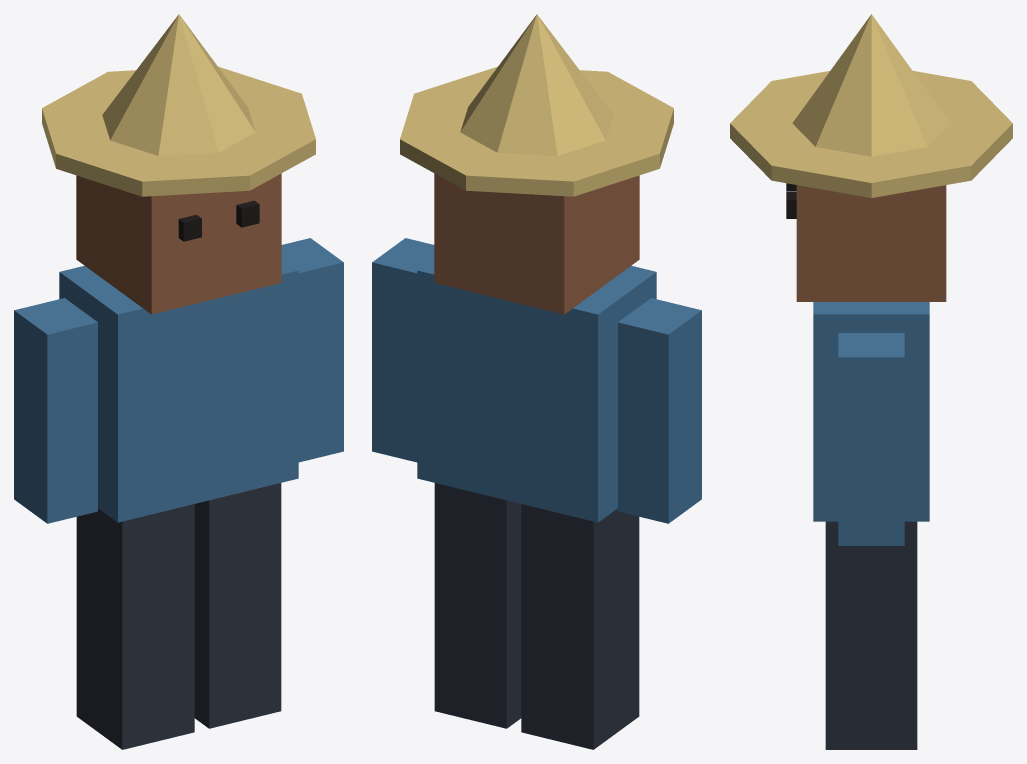
The model's file is ferrywoman.obj.
3 views of the same model, side by side, from view 1: azimuth 30°, elevation 25°; view 2: azimuth 150°, elevation 25°; view 3: azimuth 270°, elevation 25° (orthographic).
Parts seen in each view (by area): view 1: part_0, part_6, part_1, part_7, part_5, part_8, part_4, part_9, part_3, part_2; view 2: part_0, part_6, part_1, part_7, part_5, part_8, part_4, part_9; view 3: part_7, part_5, part_1, part_9, part_0, part_4.
Boxes of the visible parts, x1,y1,x2,y2 form: part_0: (59, 258, 298, 522); part_6: (76, 504, 194, 749); part_1: (76, 173, 281, 314); part_7: (194, 483, 281, 728); part_5: (42, 66, 315, 196); part_8: (14, 298, 97, 523); part_4: (102, 14, 255, 155); part_9: (281, 238, 343, 462); part_3: (236, 200, 259, 227); part_2: (178, 214, 201, 241); part_0: (417, 258, 656, 522); part_6: (521, 504, 639, 749); part_1: (434, 173, 639, 314); part_7: (434, 483, 521, 728); part_5: (400, 66, 673, 196); part_8: (618, 298, 701, 523); part_4: (460, 14, 613, 155); part_9: (372, 238, 434, 462); part_7: (825, 521, 917, 749); part_5: (730, 71, 1012, 197); part_1: (796, 185, 946, 301); part_9: (838, 333, 904, 545); part_0: (813, 302, 929, 521); part_4: (792, 14, 950, 156).
Size of the model in its own units: 0.82 by 1.85 by 0.68.
